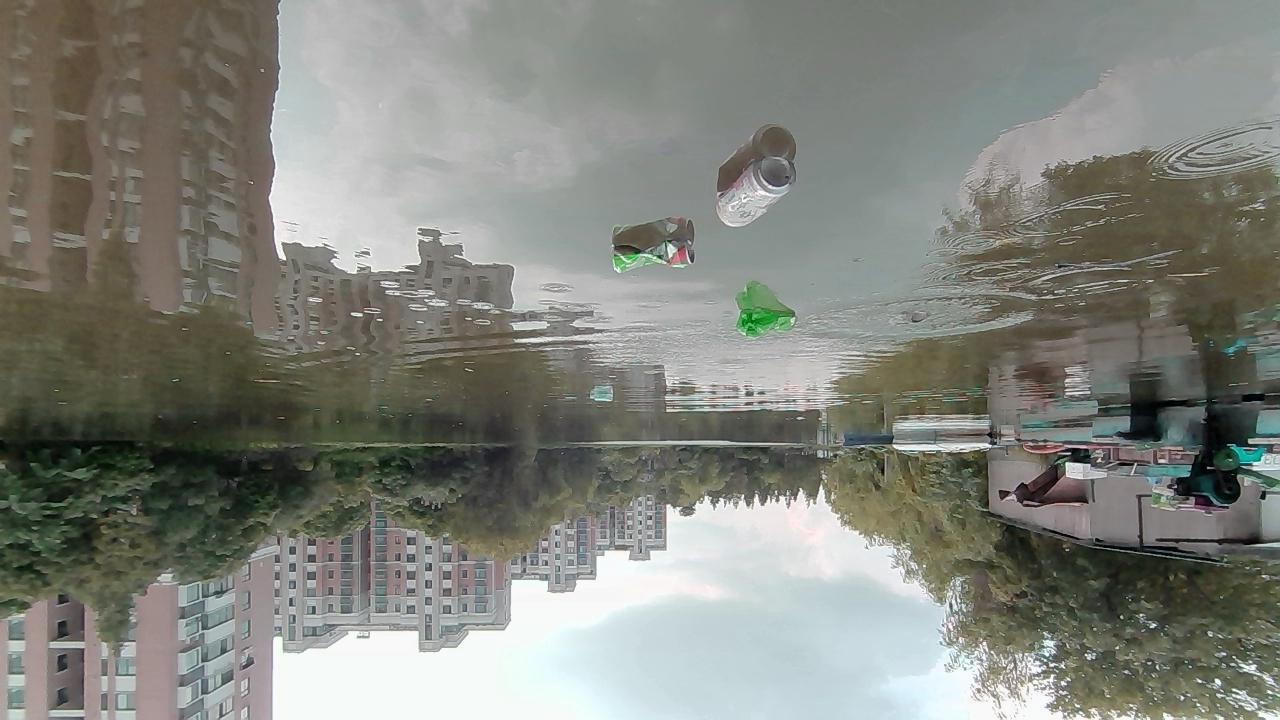Metal: (714, 154, 798, 229), (611, 239, 697, 274)
Plastic: (736, 306, 798, 339), (589, 393, 614, 402)
